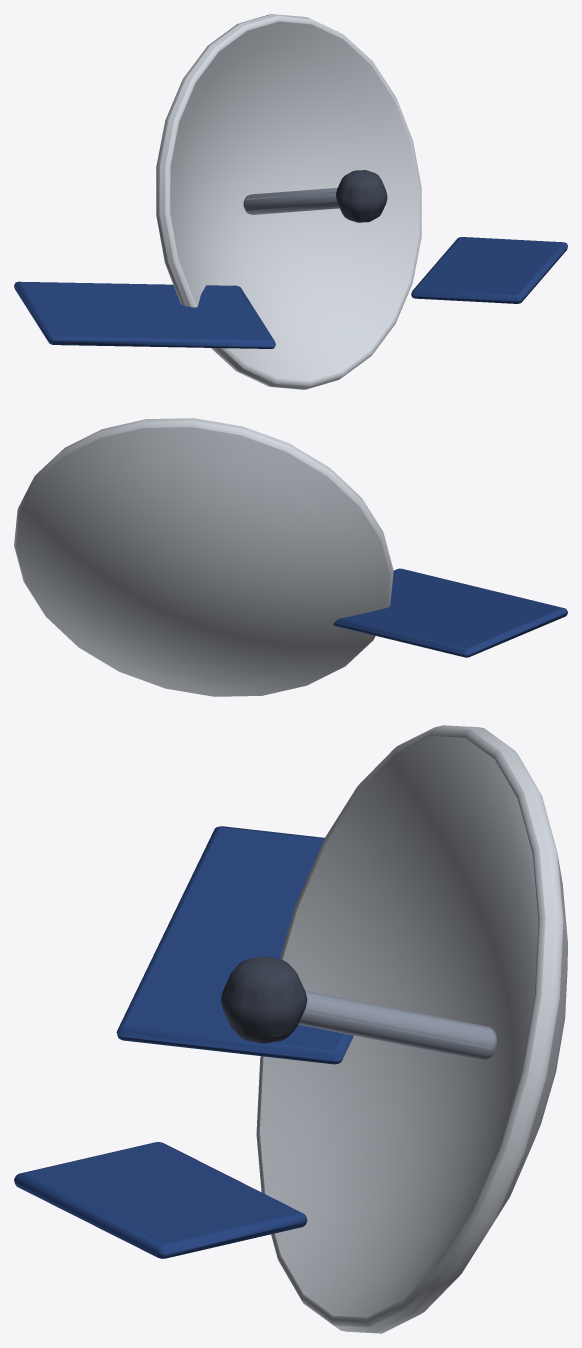
Rendered from schmutz_satellit_2.fbx.
3 views of the same model, one above another, from view 1: azimuth 30°, elevation 25°; view 2: azimuth 150°, elevation 25°; view 3: azimuth 270°, elevation 25° (orthographic). The views are drawn at different scales.
Parts seen in each view (by area): view 1: schmutz_satellit_2_Koerper; view 2: schmutz_satellit_2_Koerper; view 3: schmutz_satellit_2_Koerper.
Boxes of the visible parts, <box> form: schmutz_satellit_2_Koerper: <box>14,14,567,389</box>; schmutz_satellit_2_Koerper: <box>14,418,567,696</box>; schmutz_satellit_2_Koerper: <box>14,725,567,1333</box>.
Bounding box in the file's own units: 1.22 × 0.7477 × 0.7081.
